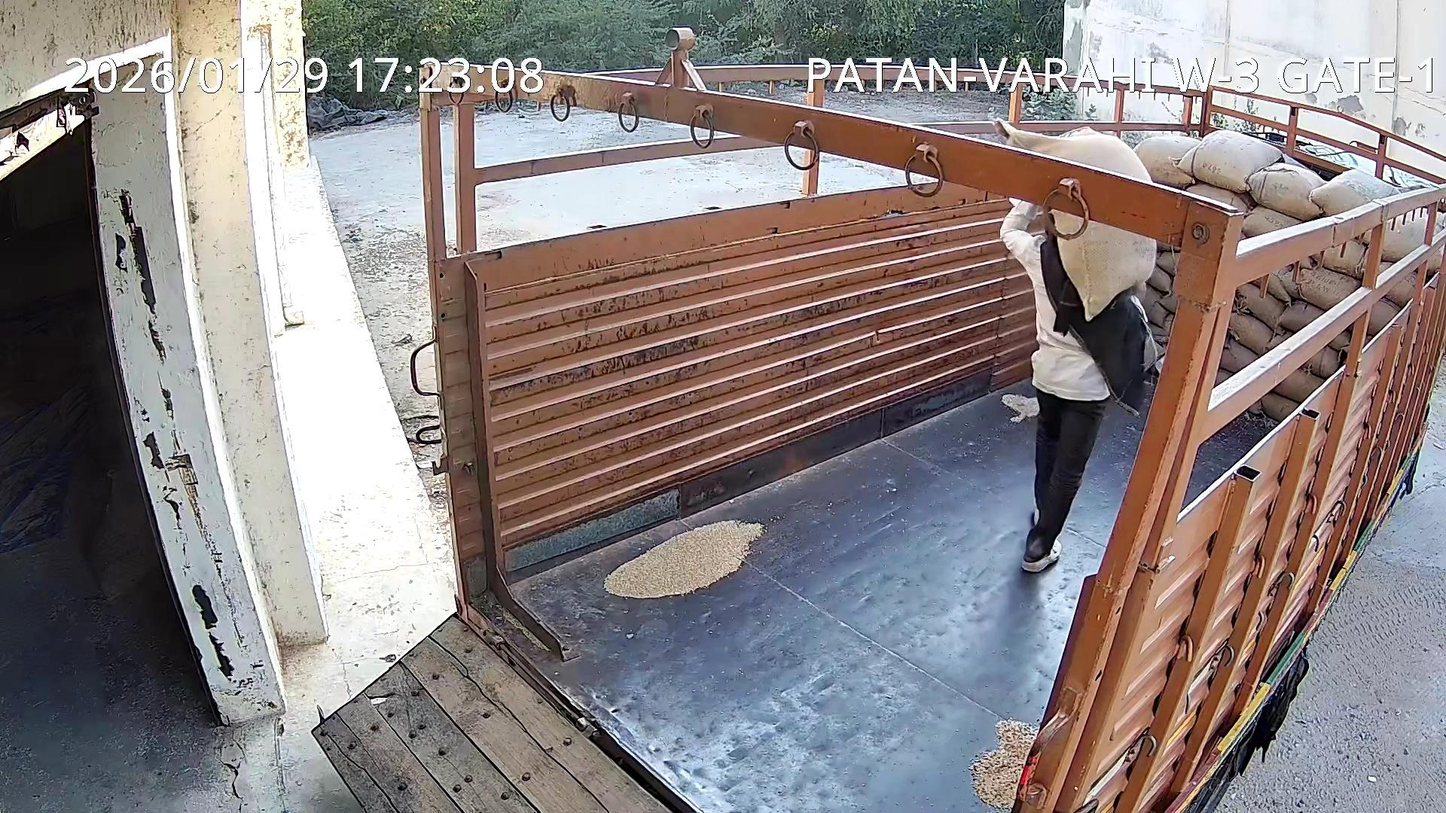Sack: (1057, 193, 1155, 318), (994, 120, 1149, 184)
